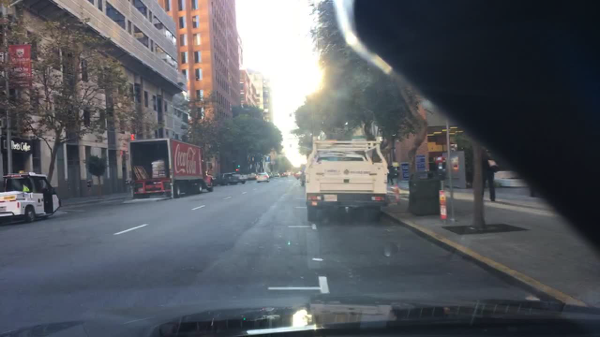car: (215, 172, 246, 185), (256, 171, 267, 184), (246, 172, 258, 181), (301, 173, 307, 188), (295, 172, 302, 181), (280, 172, 288, 178), (273, 172, 279, 177), (267, 172, 272, 177)
person: (480, 151, 499, 203), (388, 162, 396, 187)
traffic light: (236, 165, 241, 168)
truck: (305, 135, 389, 221), (129, 138, 215, 200), (0, 169, 61, 224)
